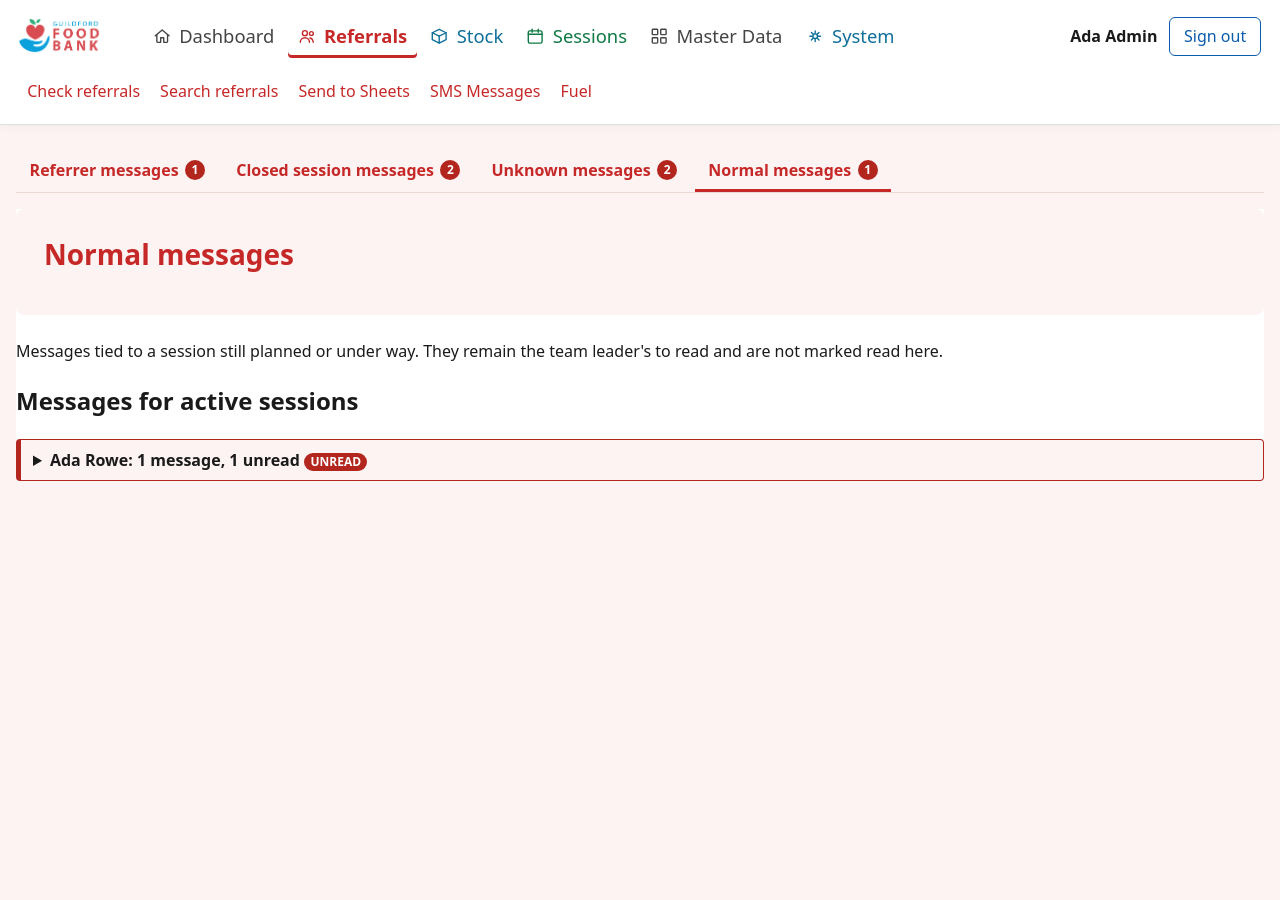
Test: SmsInboxLayout — Normal messages tab › does not mark an active-session reply read on open, even though it is unread
Click the text "Ada Rowe": (89, 460) [50,448,128,472]
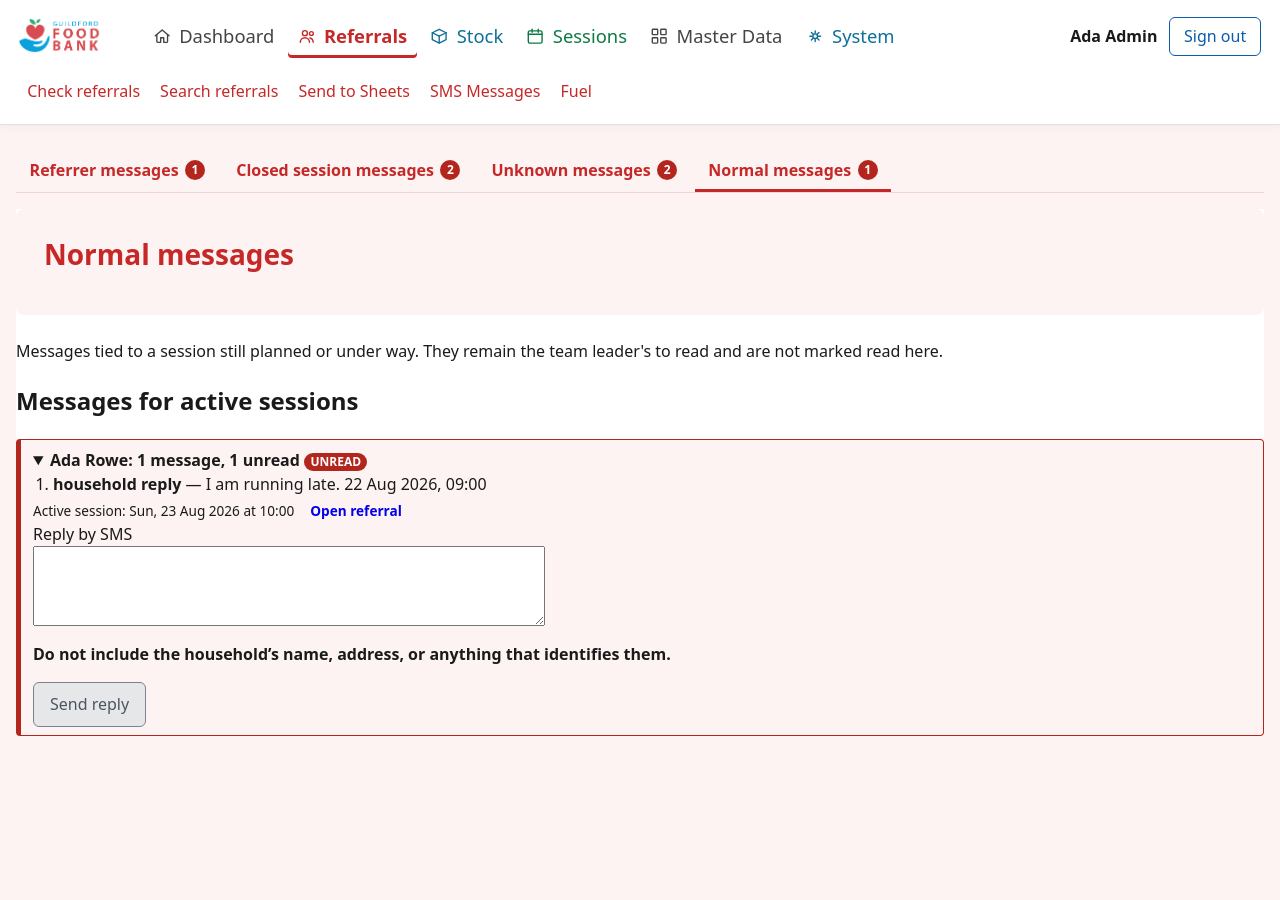
Now the list item "household reply — I am running late. 22 Aug 2026, 09:00" is shown, box [53,473,487,495]
